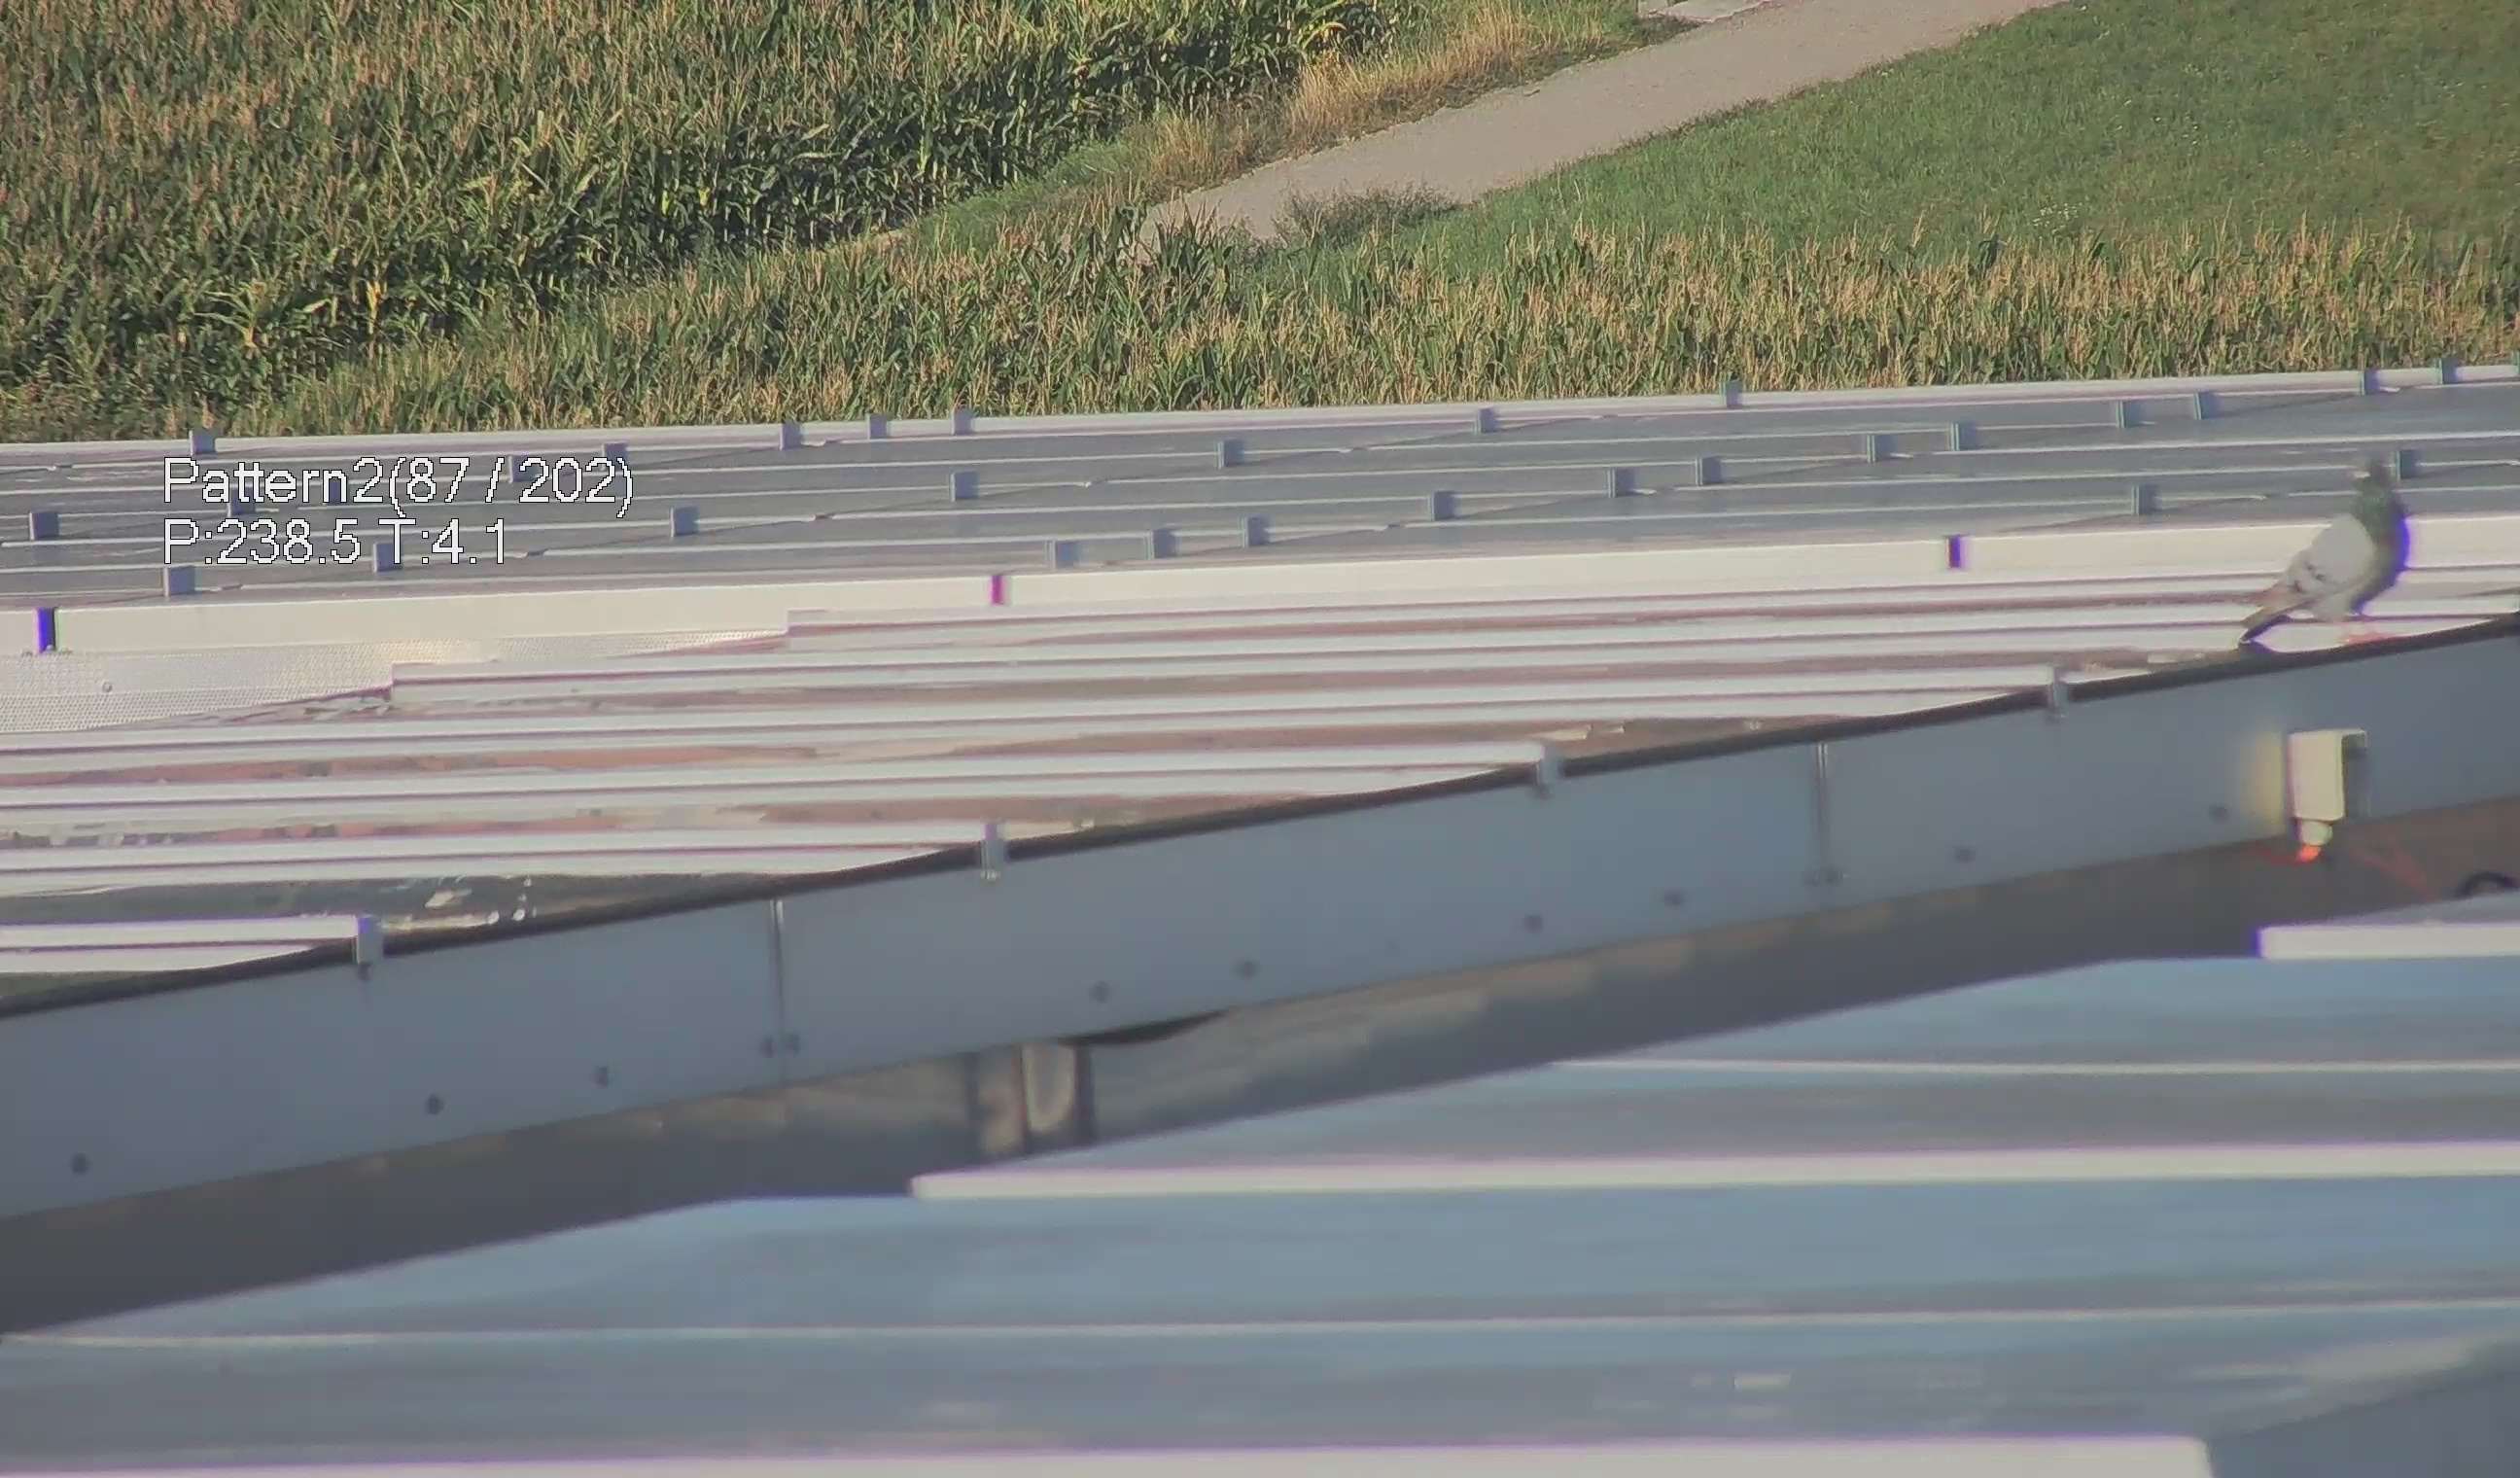Pigeon: (2240, 449, 2432, 660)
